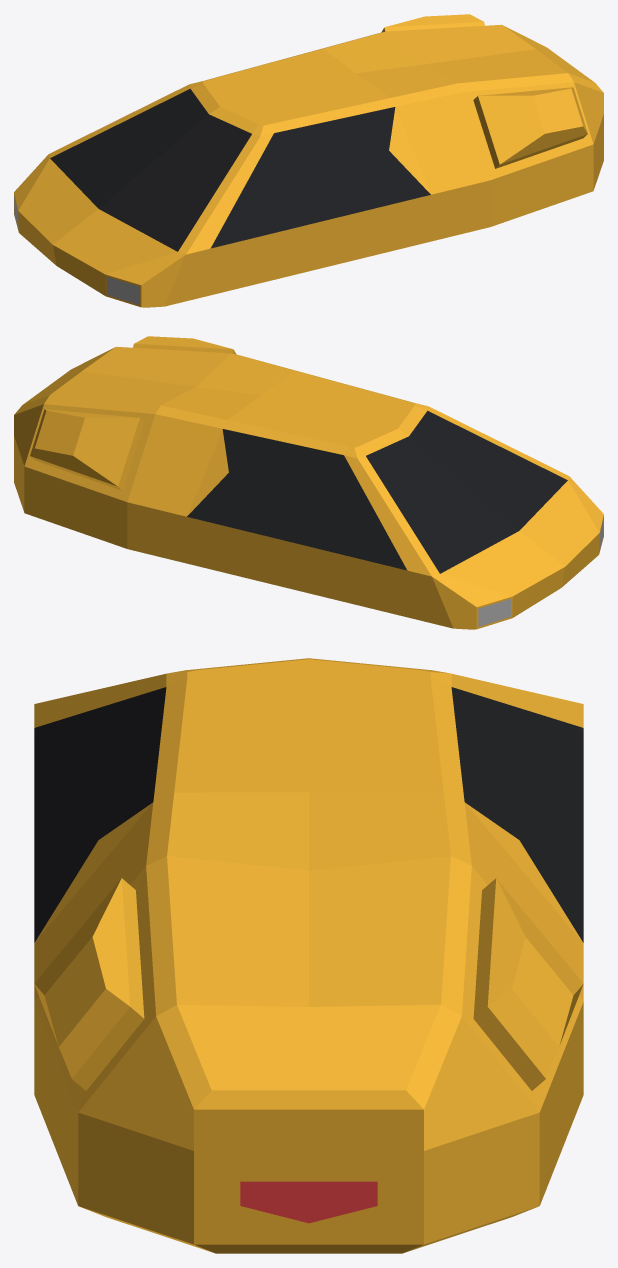
File: Car-7.fbx
3 views of the same model, one above another, from view 1: azimuth 30°, elevation 25°; view 2: azimuth 150°, elevation 25°; view 3: azimuth 270°, elevation 25° (orthographic). The views are drawn at different scales.
Parts seen in each view (by area): view 1: Car-7; view 2: Car-7; view 3: Car-7.
Boxes of the visible parts, box(x1,y1,x2,y2) form: Car-7: box(14, 14, 603, 307); Car-7: box(14, 336, 603, 629); Car-7: box(34, 658, 583, 1253).
Bounding box in the file's own units: 385 × 88.73 × 175.
